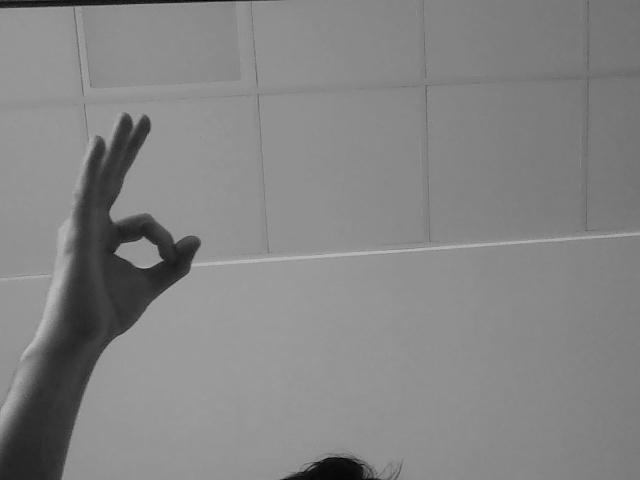OK: (85, 114, 211, 304)
